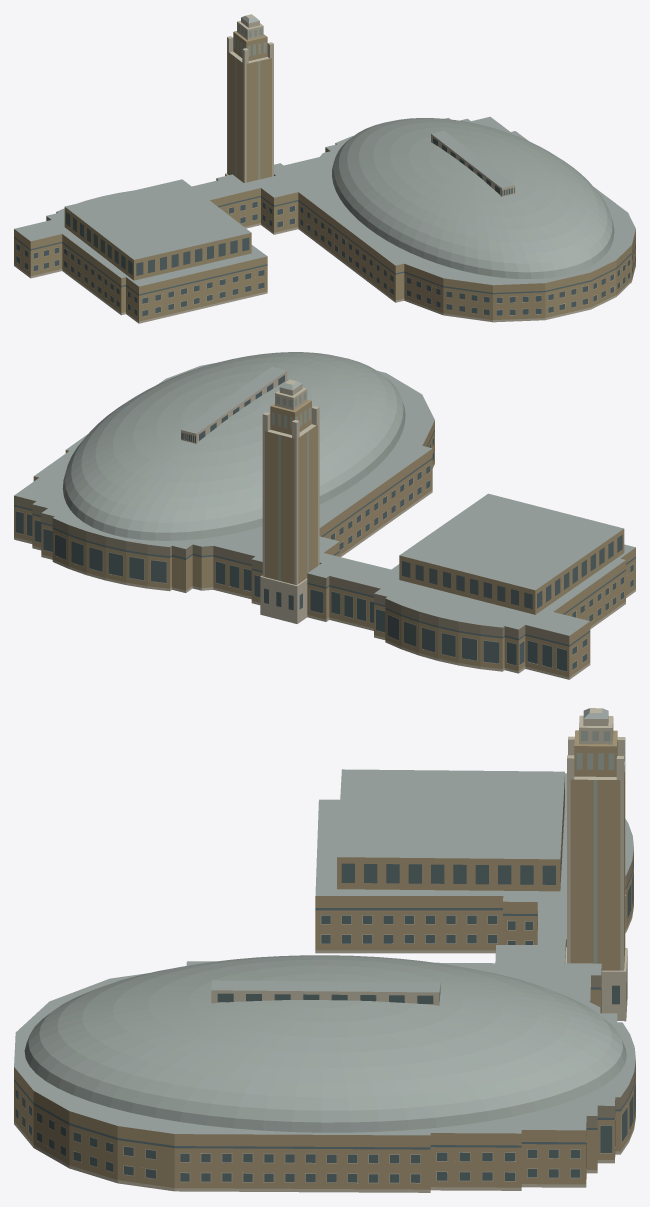
The model's file is will-rogers-memorial-center-near.glb.
3 renders of one model, top to bottom at view 1: azimuth 30°, elevation 25°; view 2: azimuth 150°, elevation 25°; view 3: azimuth 270°, elevation 25°, orthographic. The views are drawn at different scales.
Visible parts, largest first — view 1: will-rogers-memorial-center-0-roof, will-rogers-memorial-center-0-brick, will-rogers-memorial-center-0-stone, will-rogers-memorial-center-0-glass, will-rogers-memorial-center-0-tile, will-rogers-memorial-center-0-glow; view 2: will-rogers-memorial-center-0-roof, will-rogers-memorial-center-0-brick, will-rogers-memorial-center-0-glass, will-rogers-memorial-center-0-stone, will-rogers-memorial-center-0-mural, will-rogers-memorial-center-0-tile, will-rogers-memorial-center-0-glow; view 3: will-rogers-memorial-center-0-roof, will-rogers-memorial-center-0-brick, will-rogers-memorial-center-0-stone, will-rogers-memorial-center-0-glass, will-rogers-memorial-center-0-tile, will-rogers-memorial-center-0-glow, will-rogers-memorial-center-0-mural.
Part boxes in pixels (bbox=[...]): will-rogers-memorial-center-0-roof: bbox=[14, 16, 635, 286]; will-rogers-memorial-center-0-brick: bbox=[14, 31, 635, 321]; will-rogers-memorial-center-0-stone: bbox=[14, 14, 635, 323]; will-rogers-memorial-center-0-glass: bbox=[16, 137, 635, 316]; will-rogers-memorial-center-0-tile: bbox=[14, 196, 635, 295]; will-rogers-memorial-center-0-glow: bbox=[234, 24, 266, 179]; will-rogers-memorial-center-0-roof: bbox=[14, 352, 635, 635]; will-rogers-memorial-center-0-brick: bbox=[14, 399, 635, 677]; will-rogers-memorial-center-0-glass: bbox=[15, 375, 633, 671]; will-rogers-memorial-center-0-stone: bbox=[14, 371, 635, 679]; will-rogers-memorial-center-0-mural: bbox=[14, 495, 569, 644]; will-rogers-memorial-center-0-tile: bbox=[14, 430, 635, 646]; will-rogers-memorial-center-0-glow: bbox=[271, 392, 310, 580]; will-rogers-memorial-center-0-roof: bbox=[14, 708, 635, 1135]; will-rogers-memorial-center-0-brick: bbox=[14, 730, 635, 1189]; will-rogers-memorial-center-0-stone: bbox=[14, 708, 635, 1192]; will-rogers-memorial-center-0-glass: bbox=[15, 783, 635, 1182]; will-rogers-memorial-center-0-tile: bbox=[14, 862, 635, 1149]; will-rogers-memorial-center-0-glow: bbox=[576, 722, 617, 963]; will-rogers-memorial-center-0-mural: bbox=[566, 850, 635, 1133].
Bounding box in the file's own units: 165 × 63.4 × 120.
